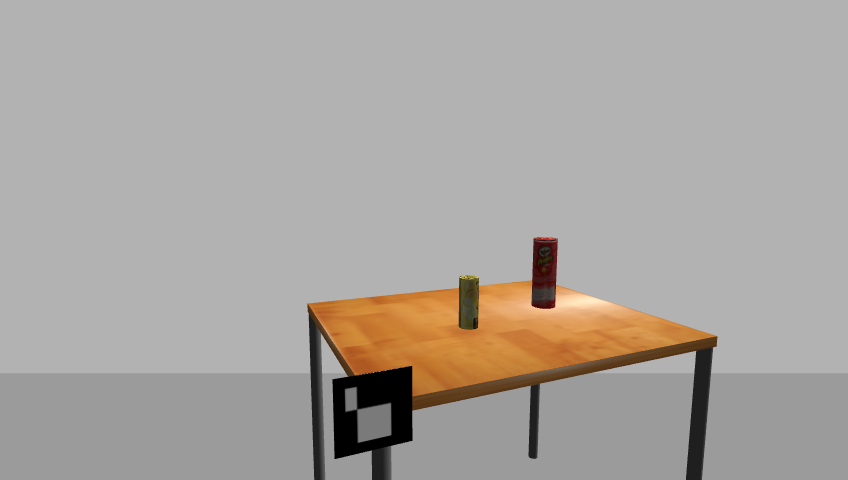aruco marker: (326, 366, 418, 461)
biscuits pack: (456, 275, 480, 331)
dinner table: (299, 279, 727, 479)
pringles can: (530, 236, 560, 311)
